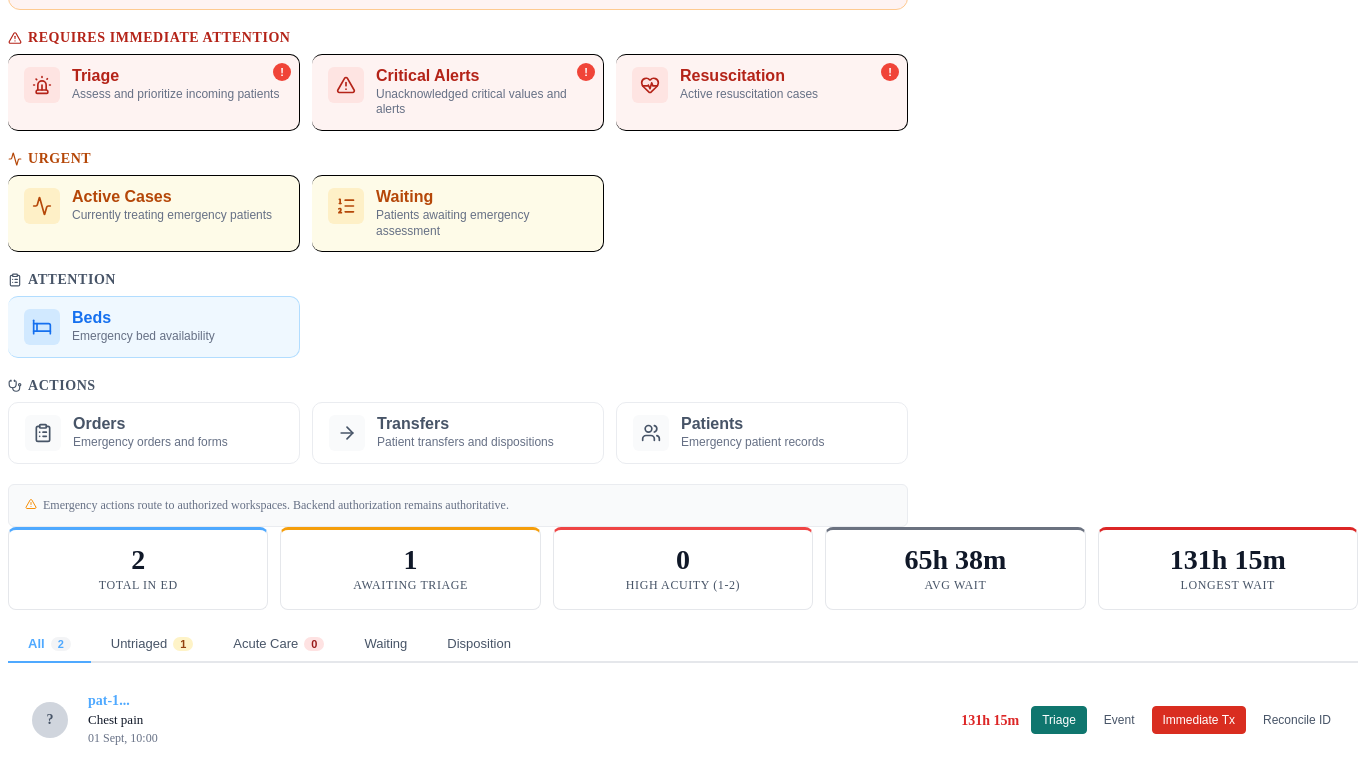
EmergencyPage contract alignment › surfaces identity reconciliation for unidentified registrations
(page scrolled)
Click the button "Reconcile ID": (1297, 720) [1252, 706, 1342, 734]
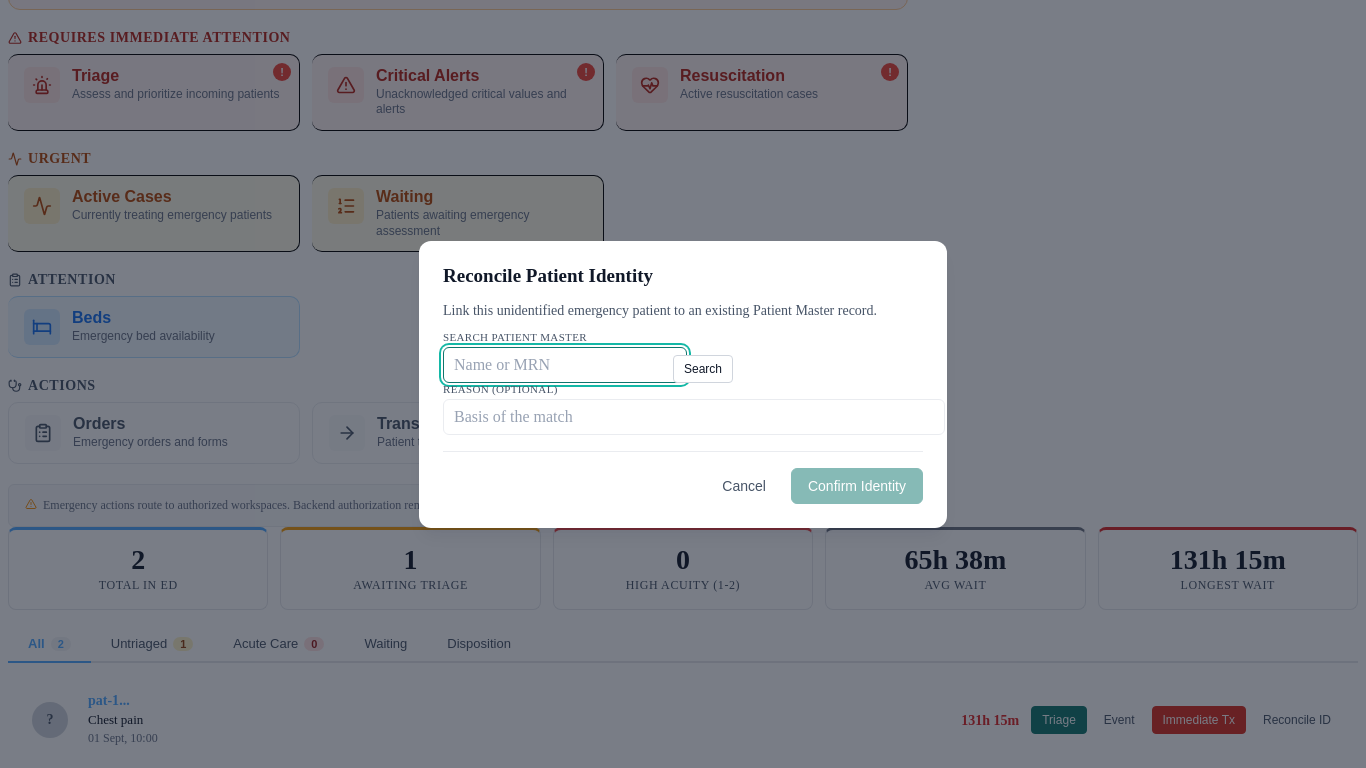
Now the heading "Reconcile Patient Identity" is shown, box [443, 264, 653, 286]
